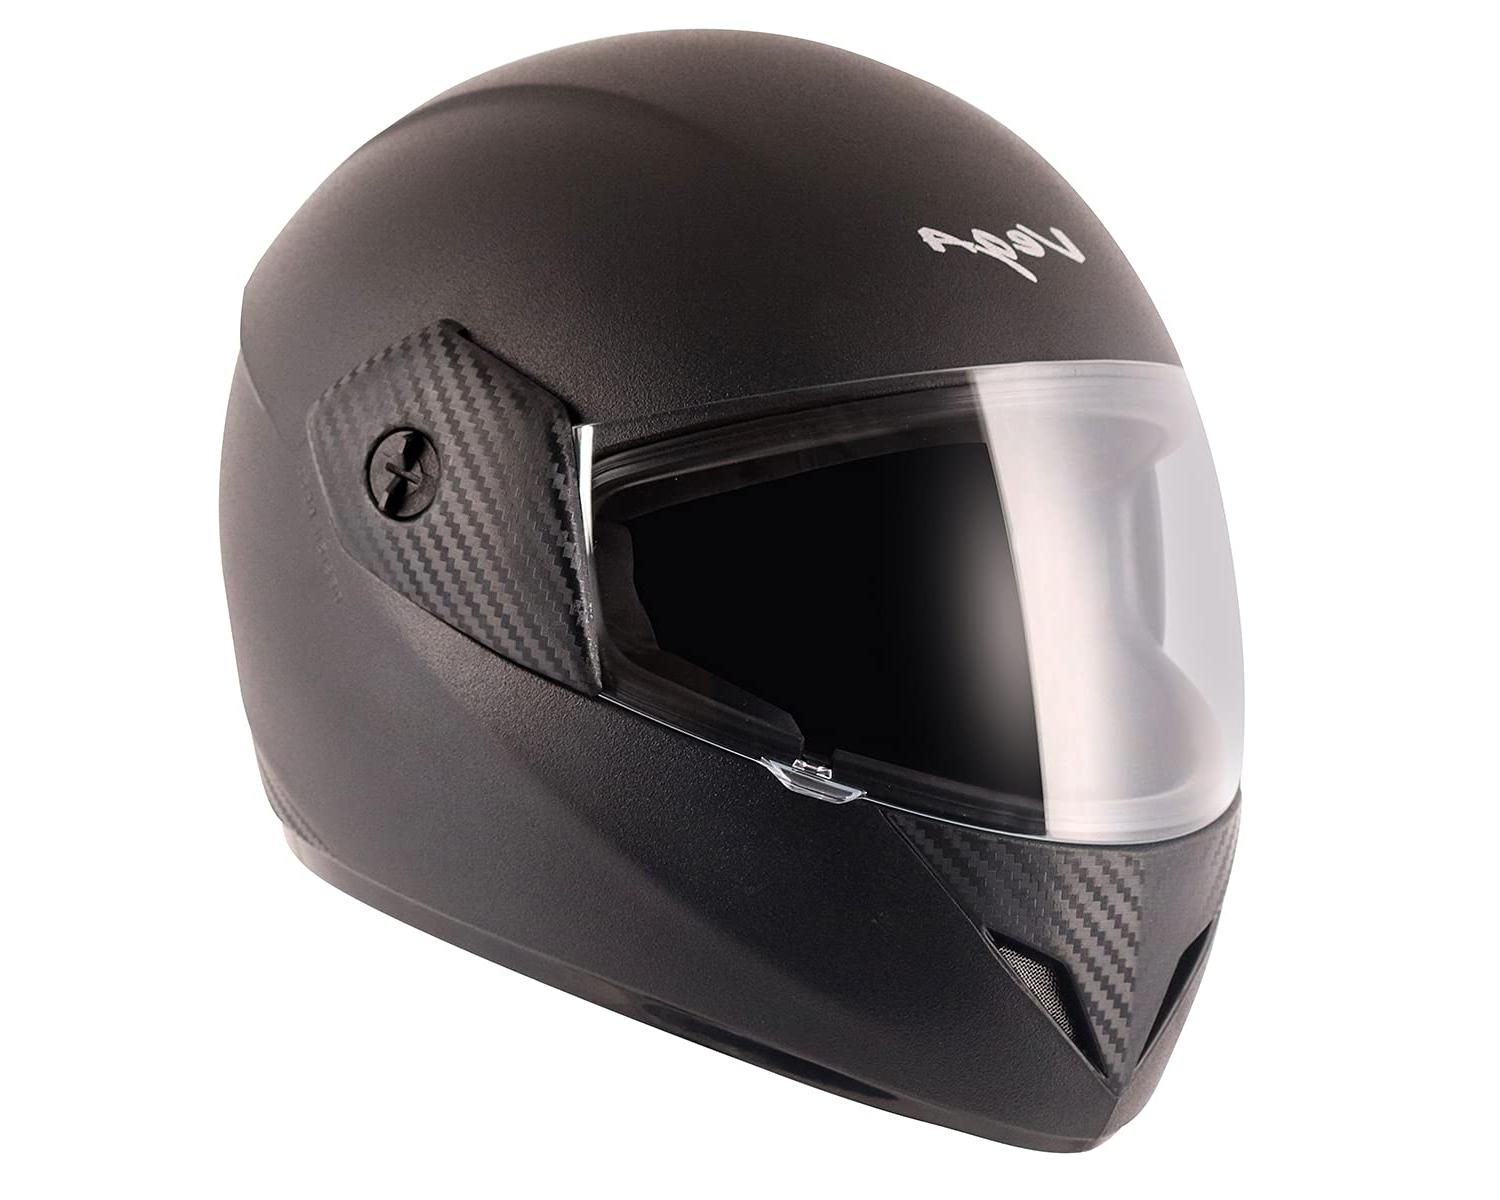Helmet: (214, 27, 1250, 1160)
